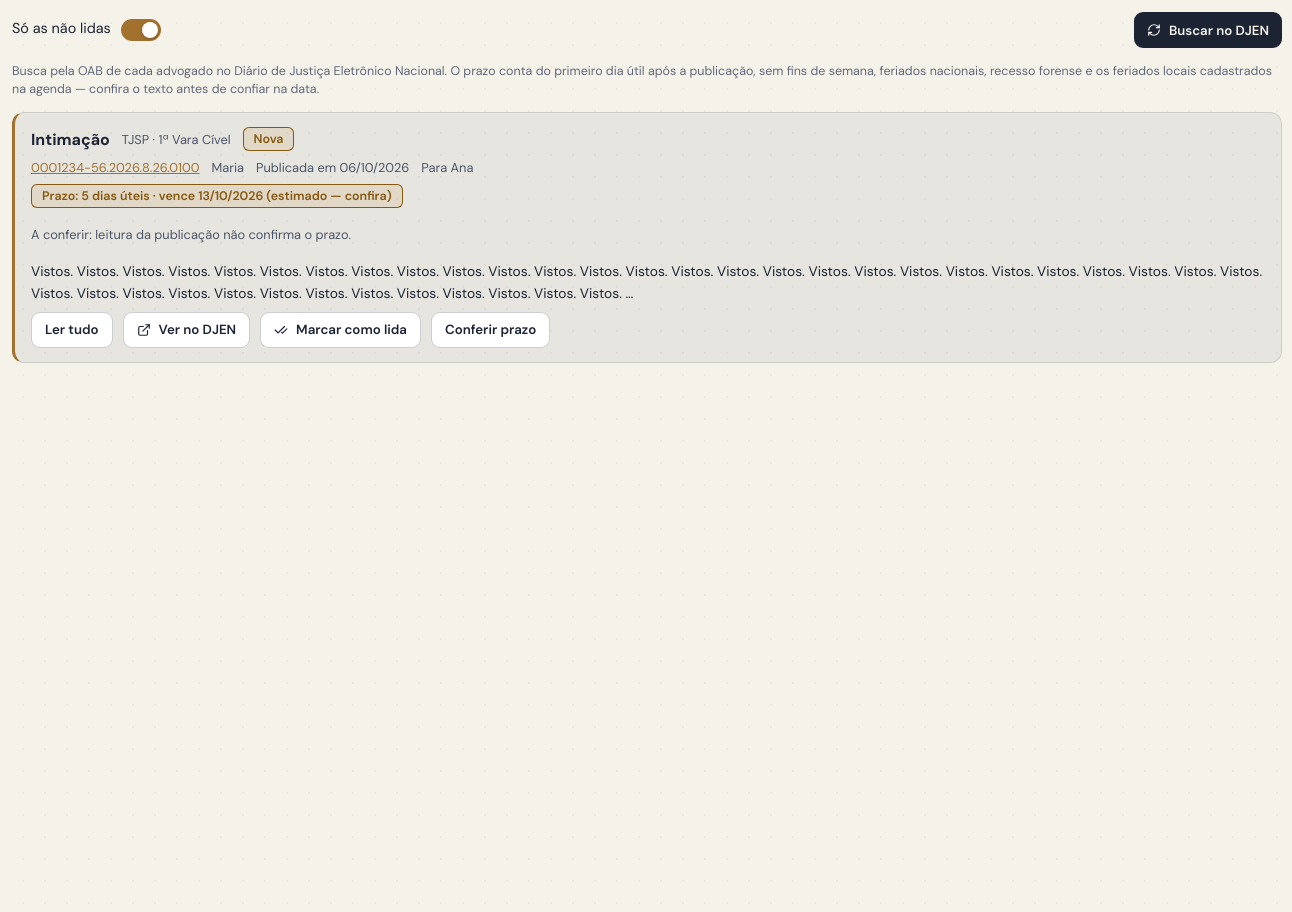
IntimacoesLista › texto longo abre com 'Ler tudo'
Click the button "Ler tudo": (72,330) [31,312,112,348]
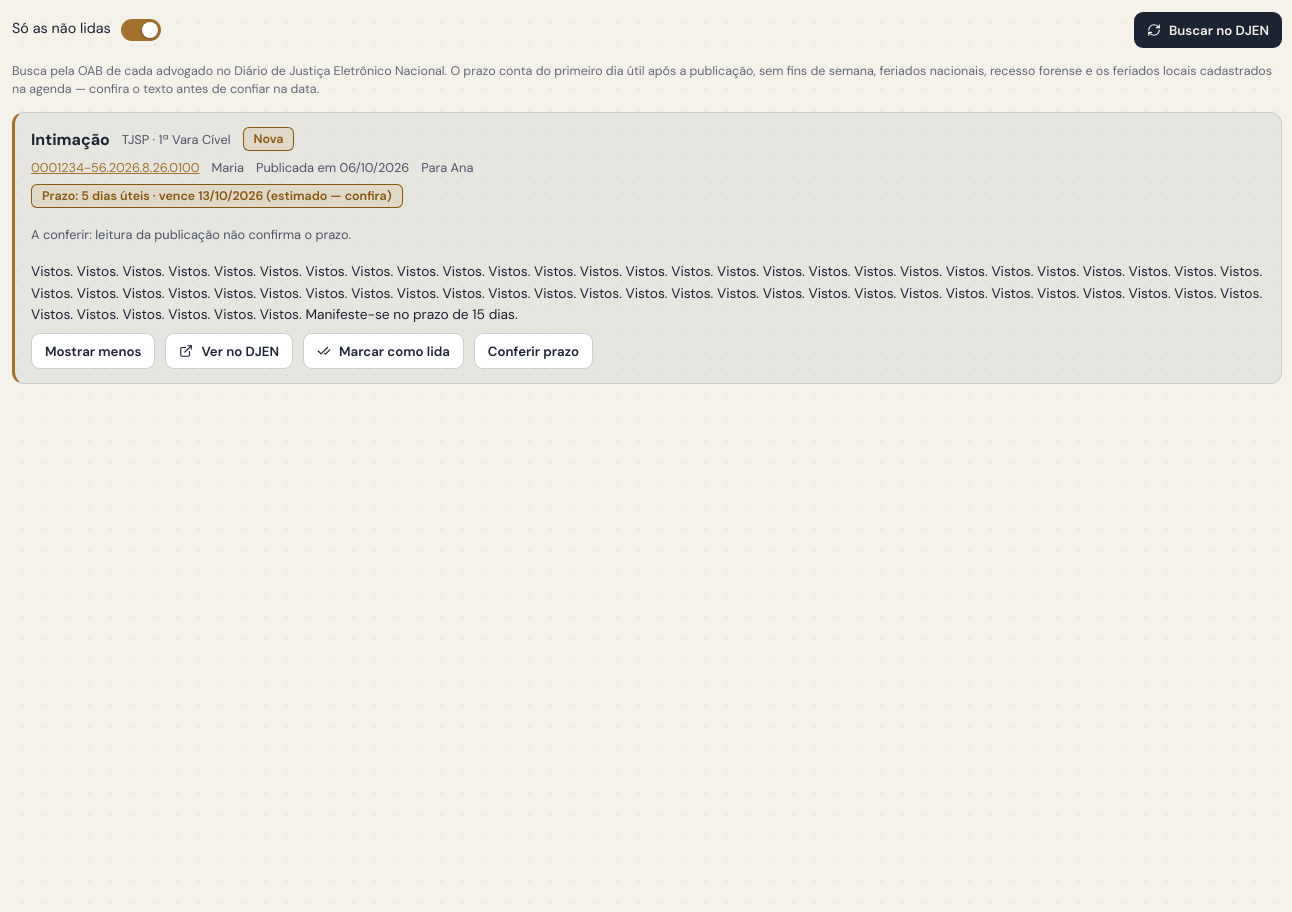
Check: the text "Manifeste-se no prazo" is shown, box [31,262,1262,323]
